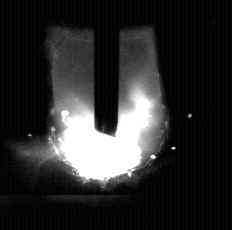arame: (96, 0, 120, 136)
poca: (52, 0, 164, 230)
